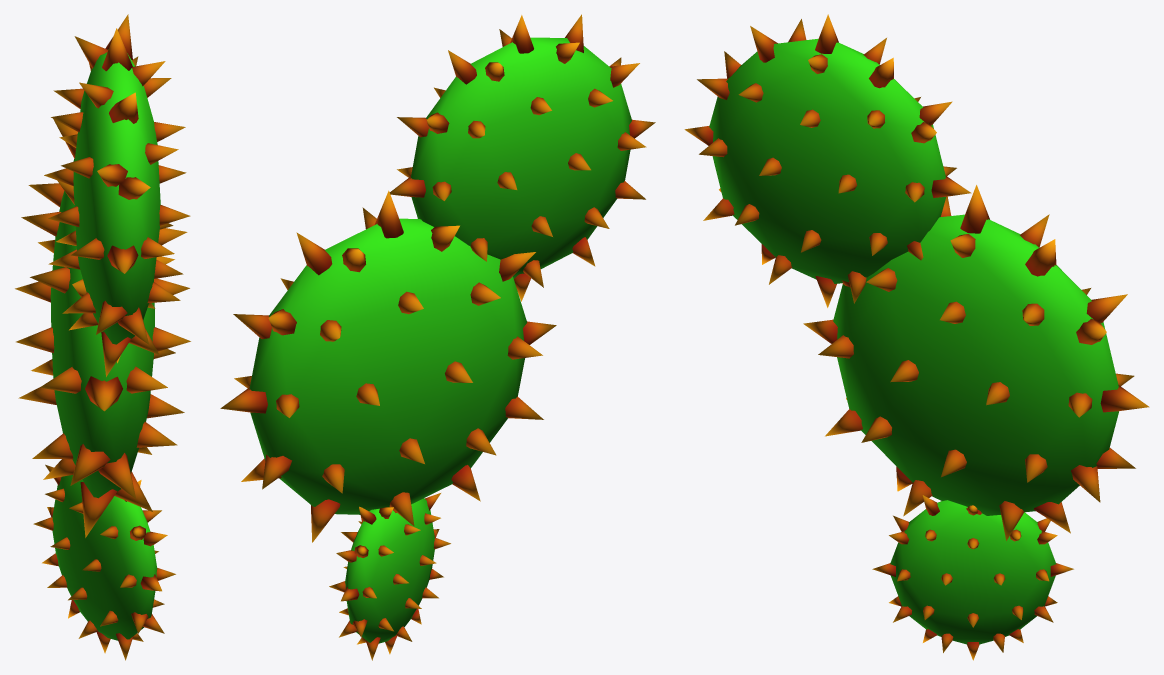
Rendered from Vera_3D-Model_Cactus_A_UP.fbx.
The picture shows the model from 3 angles, left to right: view 1: azimuth 30°, elevation 25°; view 2: azimuth 150°, elevation 25°; view 3: azimuth 270°, elevation 25°; orthographic projection. The views are drawn at different scales.
Visible parts, largest first — view 1: Icosphere.004; view 2: Icosphere.004; view 3: Icosphere.004.
Boxes of the visible parts, x1,y1,x2,y2 form: Icosphere.004: [15, 14, 190, 660]; Icosphere.004: [220, 14, 655, 660]; Icosphere.004: [684, 14, 1149, 660].
Size of the model in its own units: 177 by 411 by 281.
Materials: 1 (1 with a texture image).
